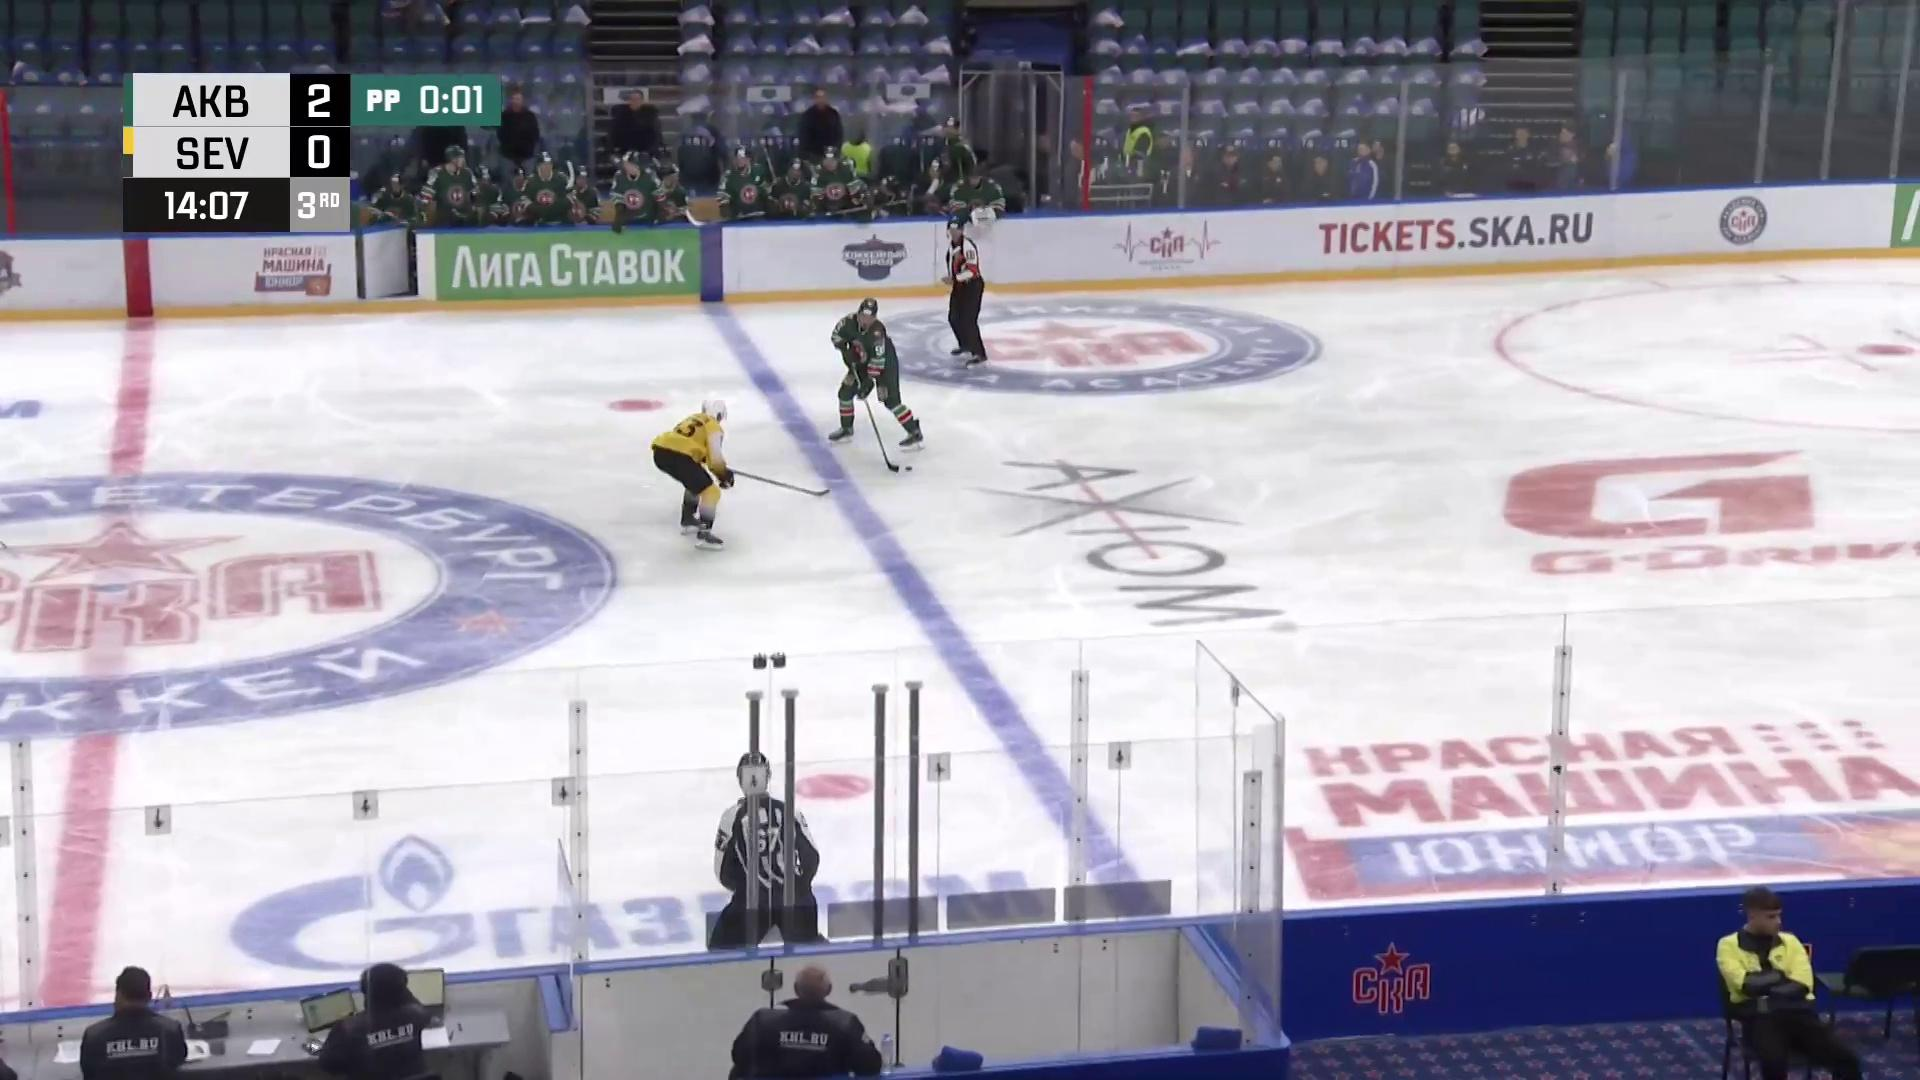ball: (905, 465, 913, 471)
